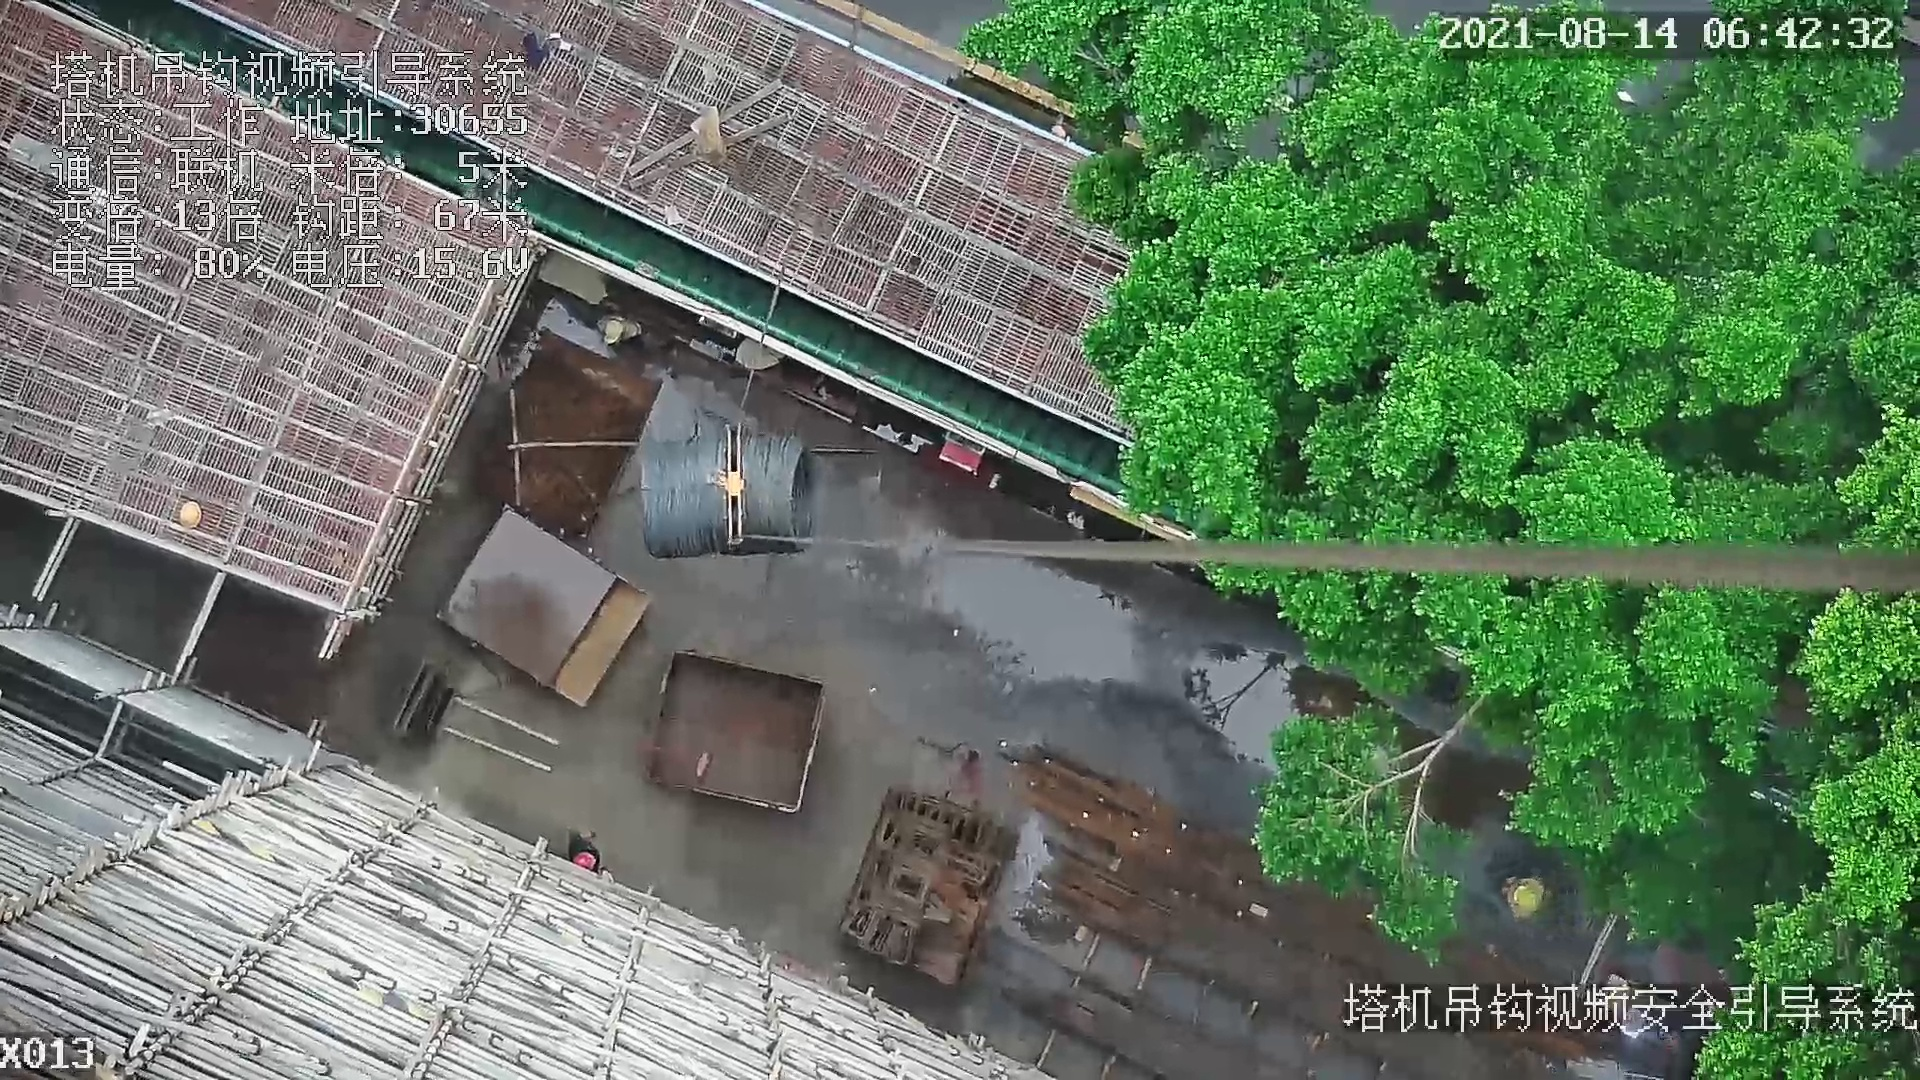helmet: (1515, 886, 1541, 909), (604, 322, 623, 341), (577, 853, 596, 867)
hook: (705, 415, 753, 546)
person: (592, 311, 647, 353), (1500, 869, 1545, 920), (570, 832, 609, 869)
